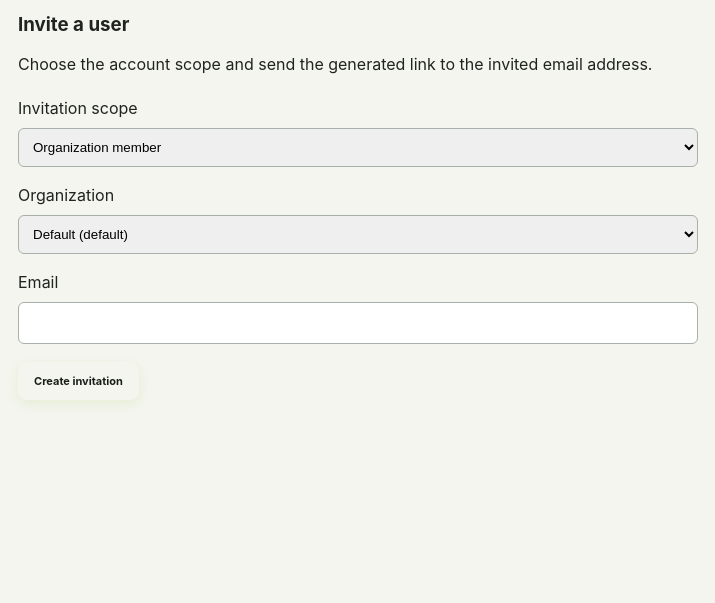
lets an admin invite into any configured organization and copy its link
Select "Acme (acme)" in the dropdown named "organization" at point(358, 235), box [18,215,698,254]
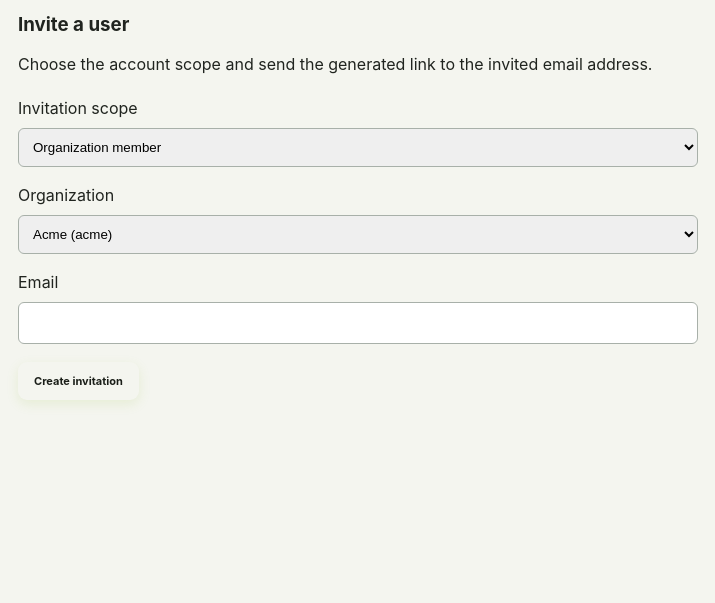
Type "alice@example.test" into the field labelled "Email" at point(358, 323), box [18,302,698,344]
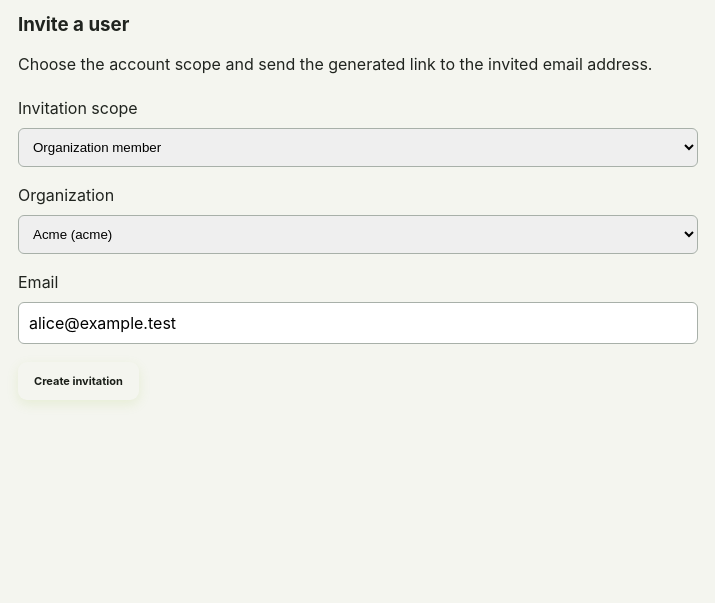
Submit the form, box [18,98,698,400]
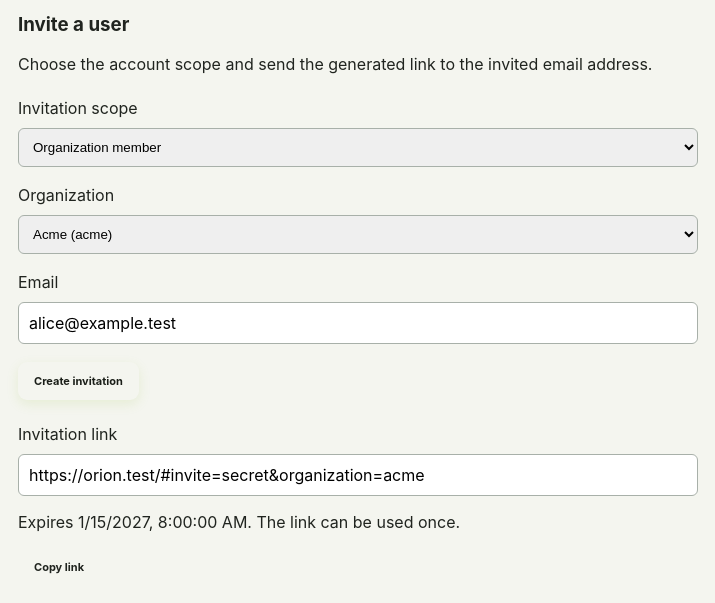
Click the button with class "secondary-button" at point(59, 567), box [18,548,100,586]
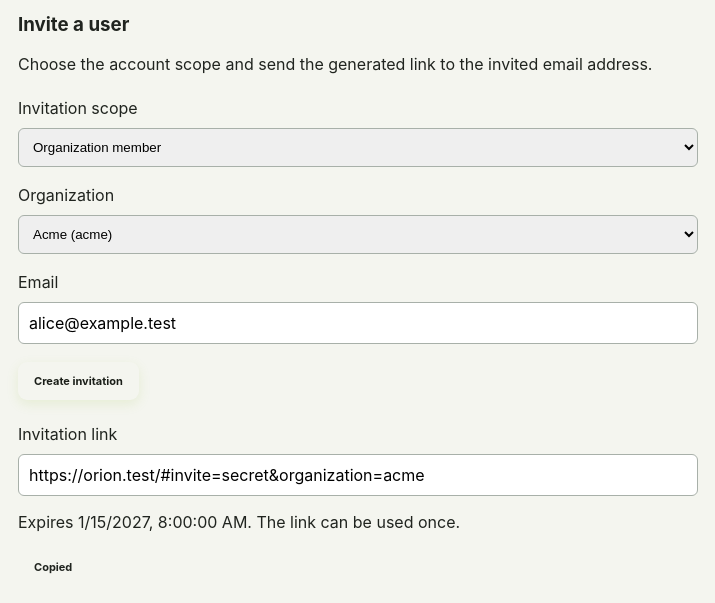
Expected: the text "Copied" is shown, [18,548,88,586]
